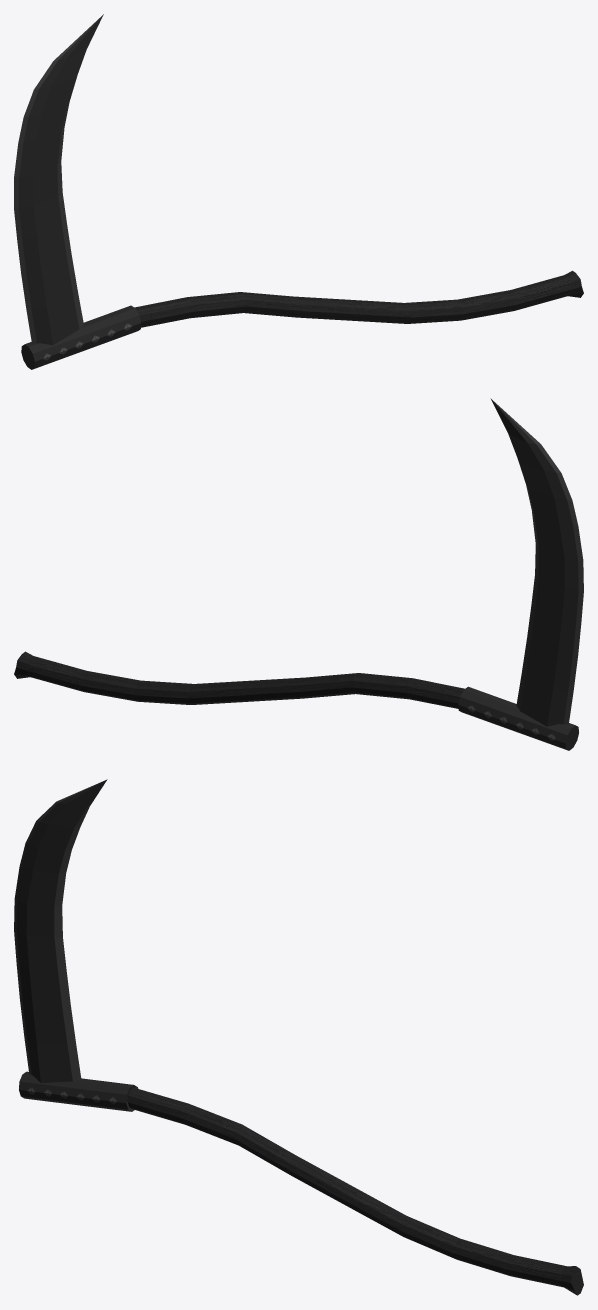
Rendered from Scythe.fbx.
The picture shows the model from 3 angles, top to bottom: view 1: azimuth 30°, elevation 25°; view 2: azimuth 150°, elevation 25°; view 3: azimuth 330°, elevation 25°; orthographic projection.
Visible parts, largest first — view 1: ZomboidScythe; view 2: ZomboidScythe; view 3: ZomboidScythe.
Boxes of the visible parts, box(x1,y1,x2,y2) form: ZomboidScythe: box(14, 14, 583, 369); ZomboidScythe: box(14, 398, 583, 750); ZomboidScythe: box(14, 779, 583, 1295).
Bounding box in the file's own units: 0.9784 × 0.6557 × 0.0415.
